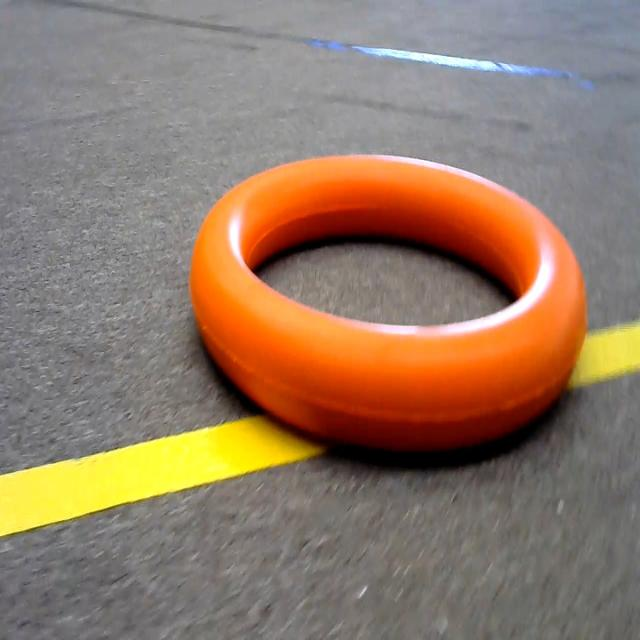note: (176, 132, 605, 484)
